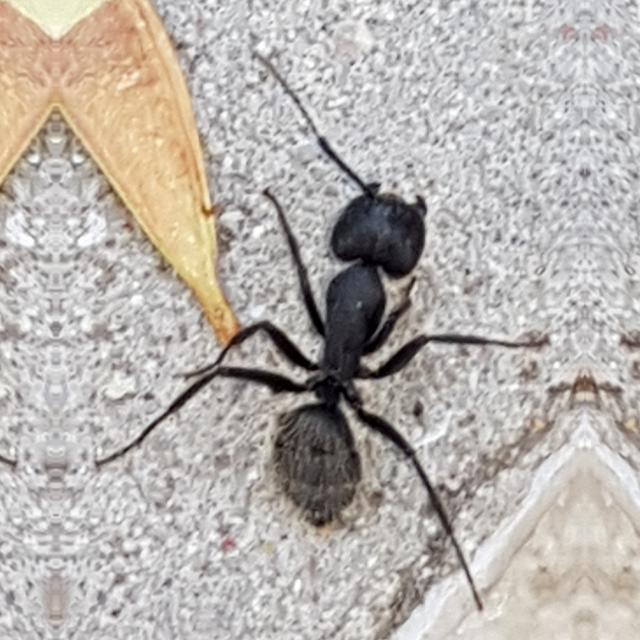Camponotus: (204, 117, 483, 579)
